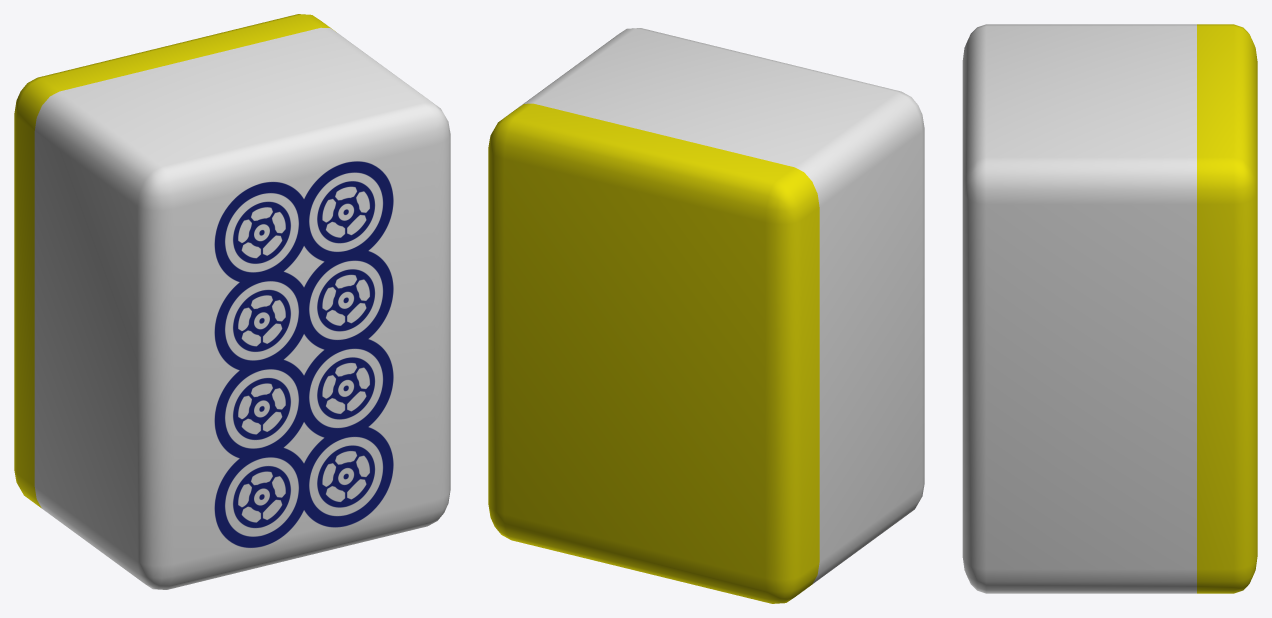
The model's file is pinzu8.glb.
3 views of the same model, side by side, from view 1: azimuth 30°, elevation 25°; view 2: azimuth 150°, elevation 25°; view 3: azimuth 270°, elevation 25° (orthographic). The views are drawn at different scales.
Visible parts, largest first — view 1: Cube, Cube.001; view 2: Cube; view 3: Cube.
Boxes of the visible parts, x1,y1,x2,y2 form: Cube: (14,14,450,589); Cube.001: (214,161,393,547); Cube: (488,28,924,603); Cube: (962,24,1257,593).
Bounding box in the file's own units: 2 × 2.6 × 1.6.
Materials: 3 (1 with a texture image).
